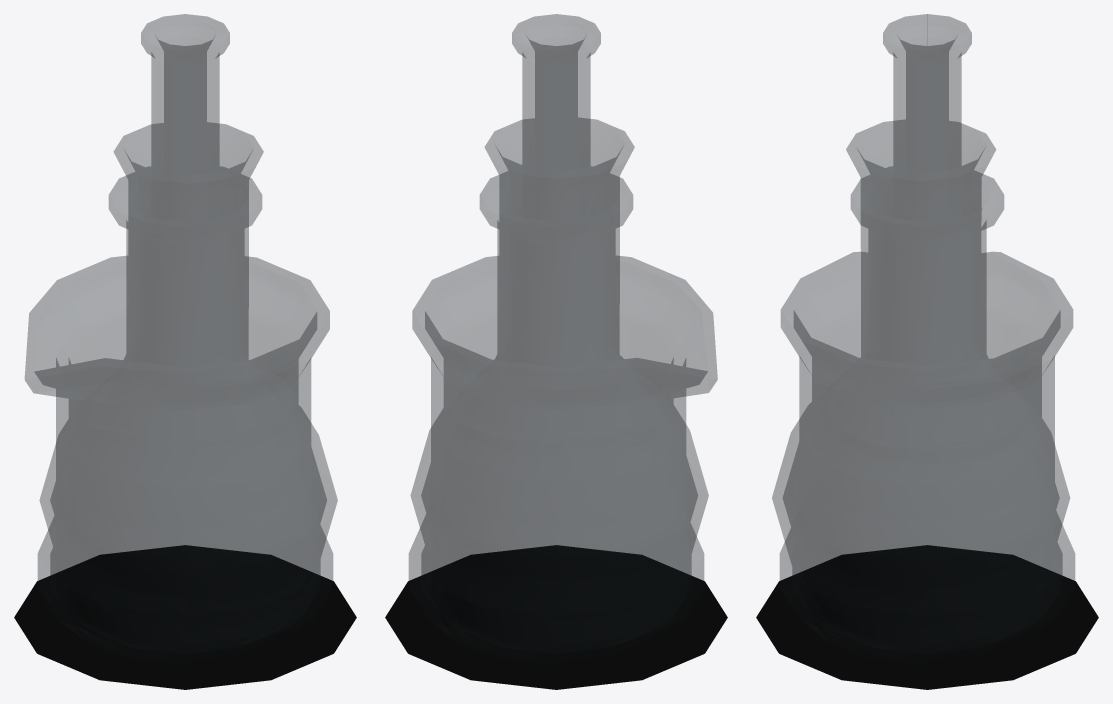
Rendered from glasses.fbx.
3 renders of one model, left to right at view 1: azimuth 30°, elevation 25°; view 2: azimuth 150°, elevation 25°; view 3: azimuth 270°, elevation 25°, orthographic.
Parts seen in each view (by area): view 1: GlassB_LOD0, GlassC_LOD0, GlassE_LOD0, shadow, GlassF_LOD0; view 2: GlassB_LOD0, GlassC_LOD0, GlassE_LOD0, shadow, GlassF_LOD0; view 3: GlassB_LOD0, GlassC_LOD0, GlassE_LOD0, shadow, GlassF_LOD0, GlassA_LOD0.
Boxes of the visible parts, x1,y1,x2,y2 form: GlassB_LOD0: (39,122,337,622); GlassC_LOD0: (25,256,329,661); GlassE_LOD0: (38,166,332,665); shadow: (14,545,356,689); GlassF_LOD0: (141,14,229,221); GlassB_LOD0: (410,117,708,598); GlassC_LOD0: (412,256,717,660); GlassE_LOD0: (409,166,703,665); shadow: (385,545,727,689); GlassF_LOD0: (512,14,600,221); GlassB_LOD0: (772,119,1069,608); GlassC_LOD0: (781,252,1072,659); GlassE_LOD0: (780,166,1074,665); shadow: (756,545,1098,689); GlassF_LOD0: (883,14,971,221); GlassA_LOD0: (875,385,1028,463).
Size of what is drawn, in the model's own units: 18.1 by 32.67 by 17.36.
